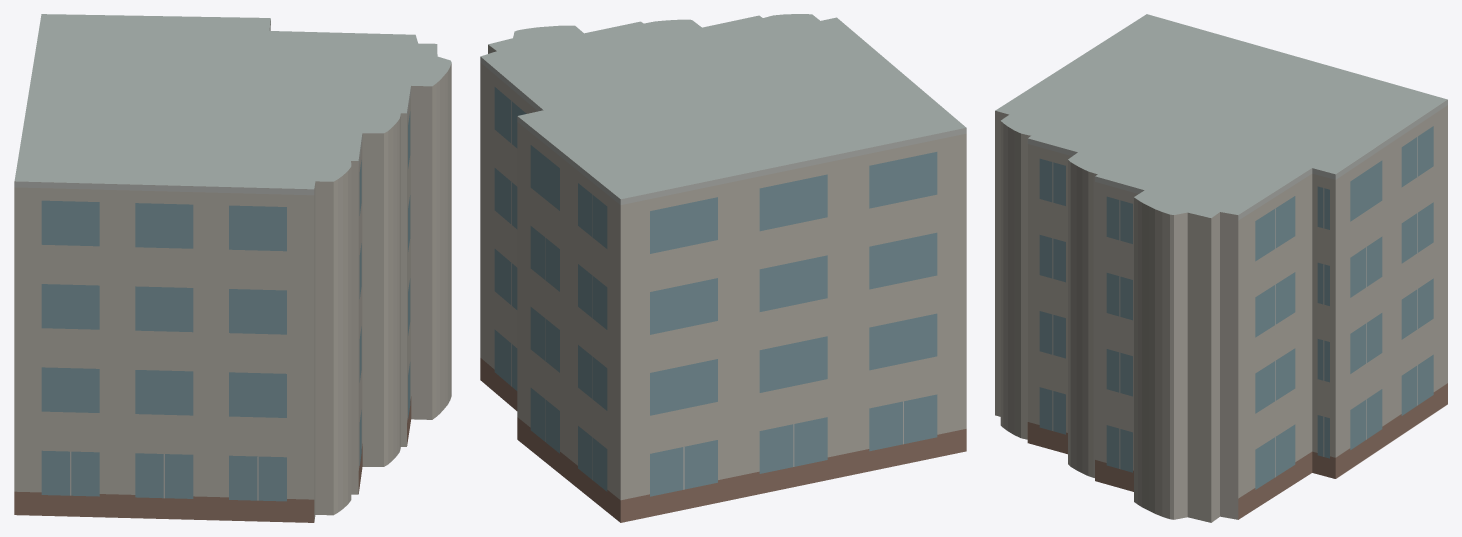
The model's file is survey-upis-32731725.glb.
3 views of the same model, side by side, from view 1: azimuth 30°, elevation 25°; view 2: azimuth 150°, elevation 25°; view 3: azimuth 270°, elevation 25° (orthographic). The views are drawn at different scales.
Visible parts, largest first — view 1: survey-upis-32731725.tmp; view 2: survey-upis-32731725.tmp; view 3: survey-upis-32731725.tmp.
Boxes of the visible parts, box(x1,y1,x2,y2) form: survey-upis-32731725.tmp: box(14, 14, 451, 522); survey-upis-32731725.tmp: box(480, 14, 966, 522); survey-upis-32731725.tmp: box(995, 14, 1447, 522).
Bounding box in the file's own units: 19.34 × 13.45 × 18.13.
